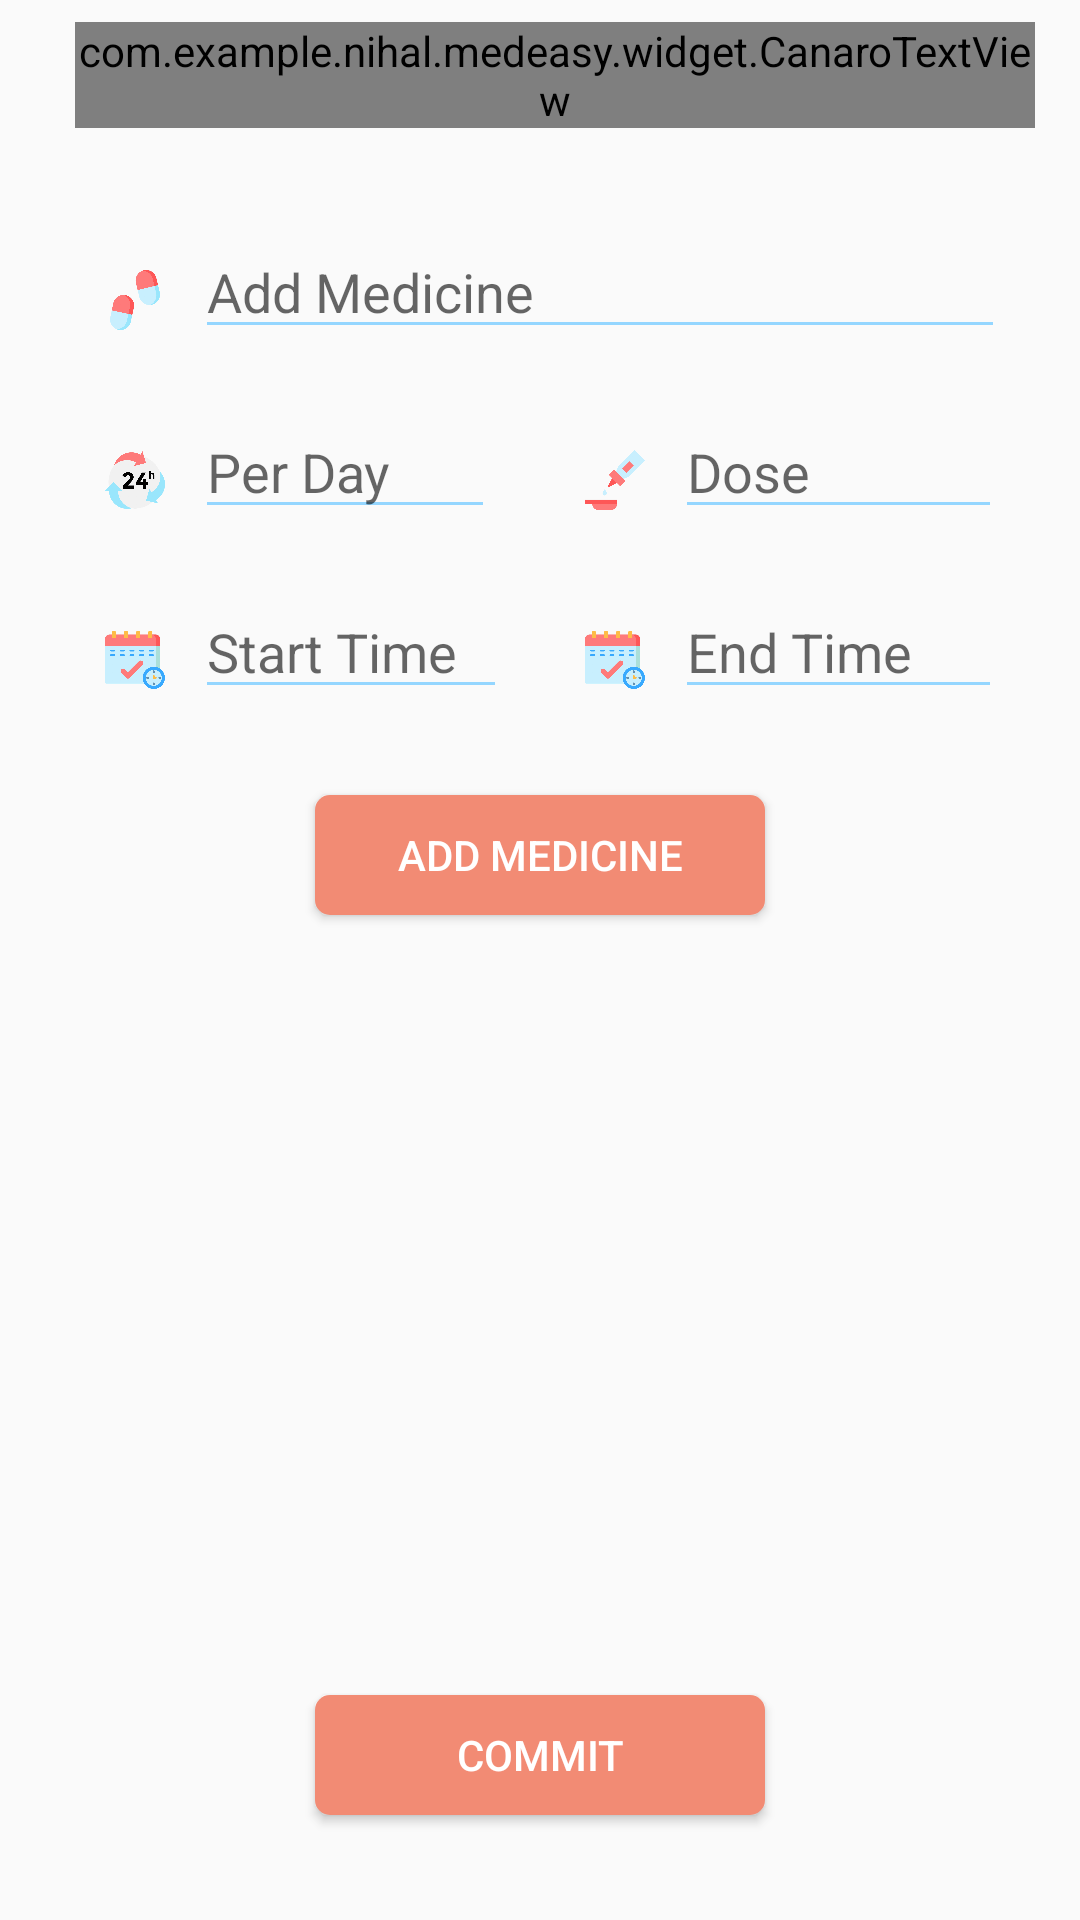

Icon bounding boxes for this 1080px×1920px phone screenshot, format (x1, y1, x2, y2):
calendar: (105, 631, 165, 689), (585, 631, 645, 689)
drug secion doc: (110, 270, 160, 330)
